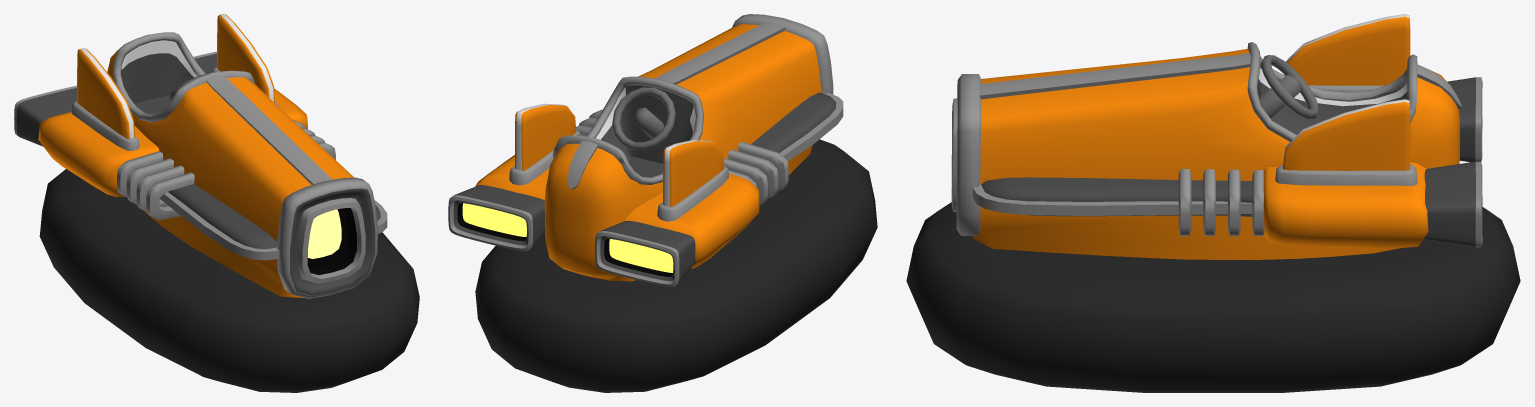
Rendered from mesh_Car_InGame_I.fbx.
The picture shows the model from 3 angles, left to right: view 1: azimuth 30°, elevation 25°; view 2: azimuth 150°, elevation 25°; view 3: azimuth 270°, elevation 25°; orthographic projection. The views are drawn at different scales.
Parts seen in each view (by area): view 1: mesh_Car_InGame_I; view 2: mesh_Car_InGame_I; view 3: mesh_Car_InGame_I.
Part boxes in pixels (left/top/right/bottom): mesh_Car_InGame_I: left=14, top=14, right=419, bottom=392; mesh_Car_InGame_I: left=448, top=14, right=877, bottom=392; mesh_Car_InGame_I: left=906, top=14, right=1520, bottom=392.
Bounding box in the file's own units: 1.77 × 1.53 × 2.97.
